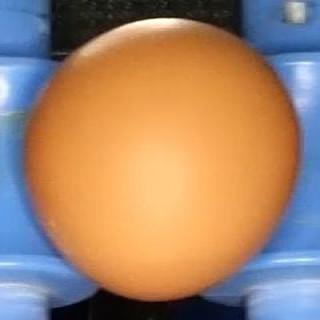Telur: (17, 18, 302, 303)
